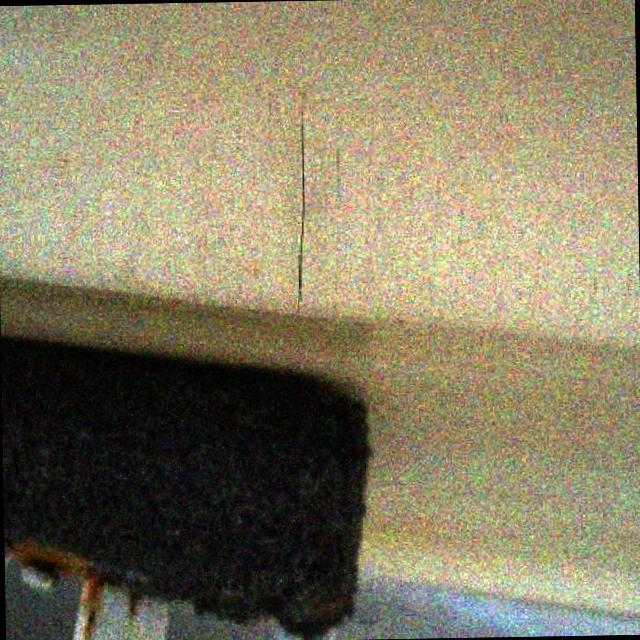crack: (294, 98, 307, 316)
